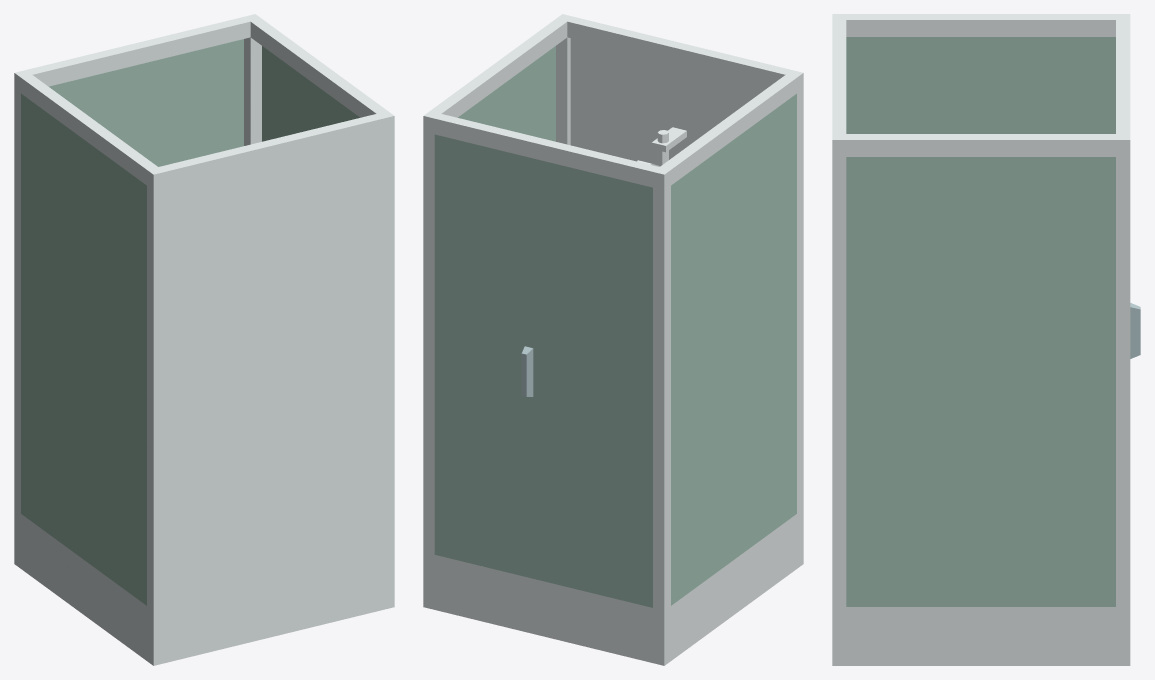
Rendered from shower.dae.
3 views of the same model, side by side, from view 1: azimuth 30°, elevation 25°; view 2: azimuth 150°, elevation 25°; view 3: azimuth 270°, elevation 25° (orthographic). The views are drawn at different scales.
Parts seen in each view (by area): view 1: shower, doorRight, doorLeft; view 2: shower, doorRight, doorLeft; view 3: shower, doorRight.
Boxes of the visible parts, box(x1,y1,x2,y2) form: shower: box(14, 14, 394, 665); doorRight: box(135, 39, 243, 166); doorLeft: box(49, 65, 134, 149); shower: box(423, 14, 803, 665); doorRight: box(434, 134, 543, 581); doorLeft: box(544, 161, 652, 607); shower: box(832, 14, 1130, 665); doorRight: box(1130, 303, 1140, 358).
Bounding box in the file's own units: 0.5618 × 1.09 × 0.5818.
